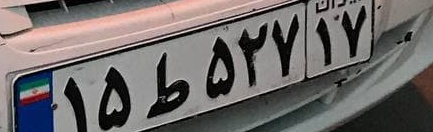character: (139, 51, 197, 121), (93, 63, 139, 132), (199, 32, 237, 103), (235, 17, 269, 91), (269, 11, 304, 80), (57, 74, 92, 132), (338, 1, 370, 63), (311, 15, 337, 69)
